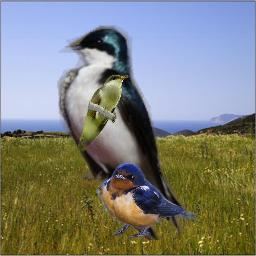Cuckoo: (77, 74, 130, 152)
Swallow: (57, 25, 190, 240), (96, 162, 197, 239)
